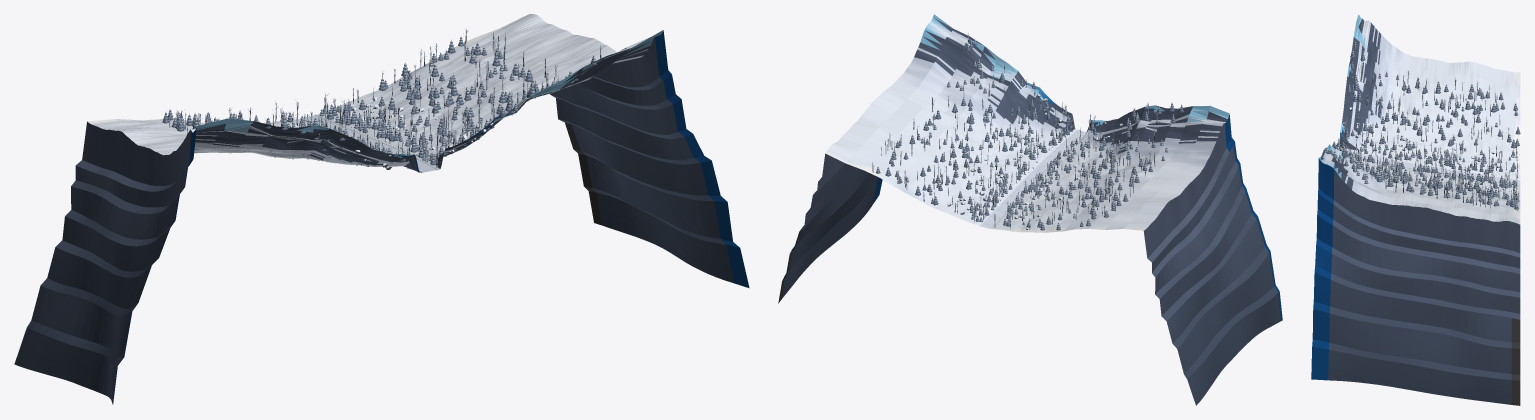
The picture shows the model from 3 angles, left to right: view 1: azimuth 30°, elevation 25°; view 2: azimuth 150°, elevation 25°; view 3: azimuth 270°, elevation 25°; orthographic projection. The views are drawn at different scales.
Visible parts, largest first — view 1: S02_Terrain_L_1553, S02_Terrain_L_1216, S02_Terrain_R_880, S02_Terrain_L_880, S02_Terrain_R_1553, S02_Terrain_R_1216, S02_Trees_03, S02_Trees_01, S02_Trees_04, S02_Trees_02, S02_Trees_06, S02_Trees_05; view 2: S02_Terrain_R_1553, S02_Terrain_L_1553, S02_Terrain_R_880, S02_Terrain_R_1216, S02_Terrain_L_880, S02_Terrain_L_1216, S02_Trees_05, S02_Trees_03, S02_Trees_01, S02_Trees_02, S02_Trees_04, S02_Trees_08 (+5 smaller); view 3: S02_Terrain_L_1553, S02_Terrain_L_1216, S02_Terrain_L_880, S02_Terrain_R_1553, S02_Terrain_R_880, S02_Terrain_R_1216, S02_Trees_09, S02_Trees_08, S02_Trees_07, S02_Trees_10, S02_Trees_06, S02_Trees_03 (+8 smaller).
Part boxes in pixels (<box>): S02_Terrain_L_1553: <box>403,30,749,288</box>; S02_Terrain_L_1216: <box>360,33,685,262</box>; S02_Terrain_R_880: <box>14,119,307,379</box>; S02_Terrain_L_880: <box>317,14,642,238</box>; S02_Terrain_R_1553: <box>101,118,422,404</box>; S02_Terrain_R_1216: <box>66,135,186,393</box>; S02_Trees_03: <box>371,51,526,143</box>; S02_Trees_01: <box>319,28,493,123</box>; S02_Trees_04: <box>399,57,557,152</box>; S02_Trees_02: <box>341,32,506,133</box>; S02_Trees_06: <box>162,45,603,168</box>; S02_Trees_05: <box>418,70,578,165</box>; S02_Terrain_R_1553: <box>1053,105,1282,342</box>; S02_Terrain_L_1553: <box>844,14,1076,235</box>; S02_Terrain_R_880: <box>989,195,1220,405</box>; S02_Terrain_R_1216: <box>1023,164,1248,371</box>; S02_Terrain_L_880: <box>778,122,1008,303</box>; S02_Terrain_L_1216: <box>805,86,1040,269</box>; S02_Trees_05: <box>947,59,1069,149</box>; S02_Trees_03: <box>913,115,1029,186</box>; S02_Trees_01: <box>872,147,996,221</box>; S02_Trees_02: <box>885,132,1012,205</box>; S02_Trees_04: <box>932,95,1047,165</box>; S02_Trees_08: <box>1020,169,1139,199</box>; S02_Terrain_L_1553: <box>1311,143,1395,386</box>; S02_Terrain_L_1216: <box>1390,167,1459,397</box>; S02_Terrain_L_880: <box>1459,177,1520,405</box>; S02_Terrain_R_1553: <box>1339,14,1405,160</box>; S02_Terrain_R_880: <box>1459,61,1520,179</box>; S02_Terrain_R_1216: <box>1399,53,1459,170</box>; S02_Trees_09: <box>1396,71,1432,165</box>; S02_Trees_08: <box>1432,76,1462,169</box>; S02_Trees_07: <box>1459,81,1492,174</box>; S02_Trees_10: <box>1360,70,1400,158</box>; S02_Trees_06: <box>1325,92,1520,177</box>; S02_Trees_03: <box>1416,159,1454,198</box>.
Size of the model in its own units: 2666 by 1345 by 1145.
Materials: 1 (1 with a texture image).
